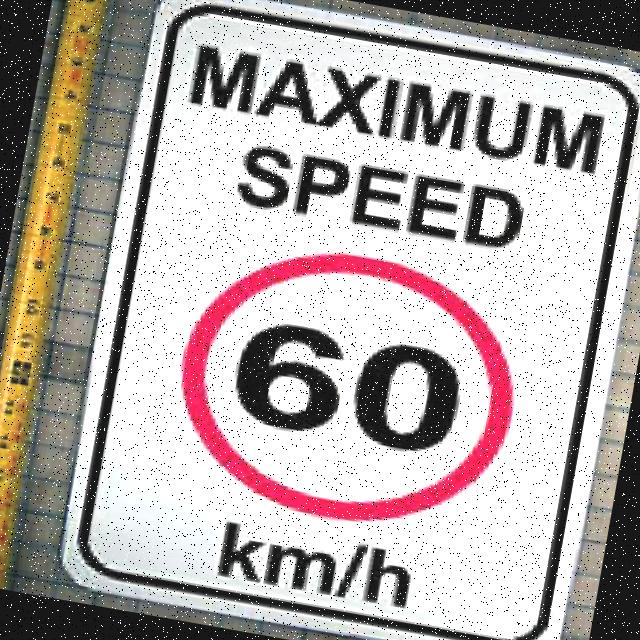Ograniczenie predkosci do 60: (168, 230, 520, 537)
